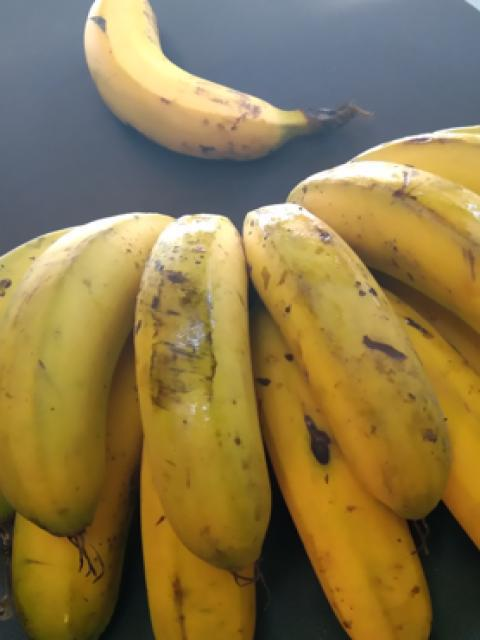ripe: (105, 187, 312, 579), (242, 173, 454, 493), (0, 181, 135, 547), (43, 0, 302, 171), (270, 430, 431, 629)
